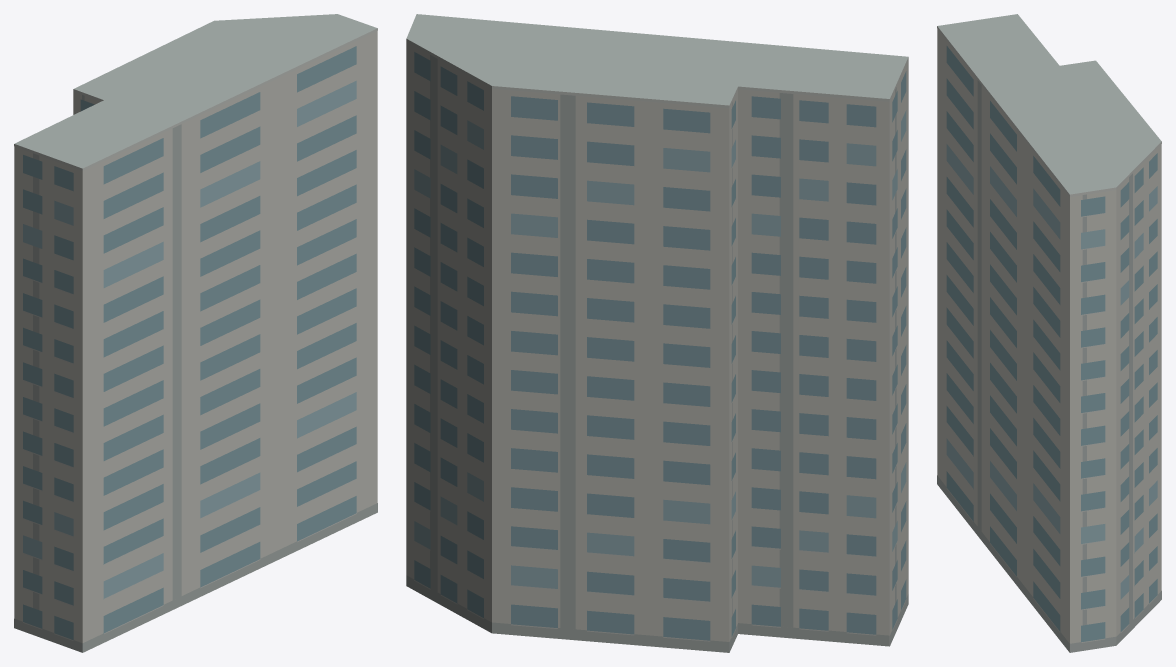
The model's file is residential-de1ae4e1-885b-4d5b-b309-18303aaf785c.glb.
The picture shows the model from 3 angles, left to right: view 1: azimuth 30°, elevation 25°; view 2: azimuth 150°, elevation 25°; view 3: azimuth 270°, elevation 25°; orthographic projection. The views are drawn at different scales.
Parts seen in each view (by area): view 1: residential-de1ae4e1-885b-4d5b-b309-18303aaf785c.tmp; view 2: residential-de1ae4e1-885b-4d5b-b309-18303aaf785c.tmp; view 3: residential-de1ae4e1-885b-4d5b-b309-18303aaf785c.tmp.
Part boxes in pixels (x1=…): residential-de1ae4e1-885b-4d5b-b309-18303aaf785c.tmp: x1=14, y1=14, x2=377, y2=652; residential-de1ae4e1-885b-4d5b-b309-18303aaf785c.tmp: x1=406, y1=14, x2=908, y2=652; residential-de1ae4e1-885b-4d5b-b309-18303aaf785c.tmp: x1=937, y1=14, x2=1161, y2=652.
Bounding box in the file's own units: 38.89 × 46 × 20.44.
